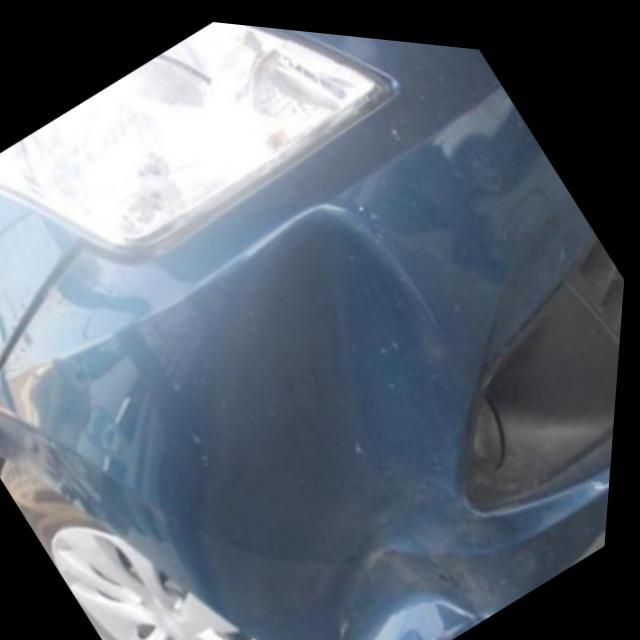dent: (206, 206, 496, 640)
